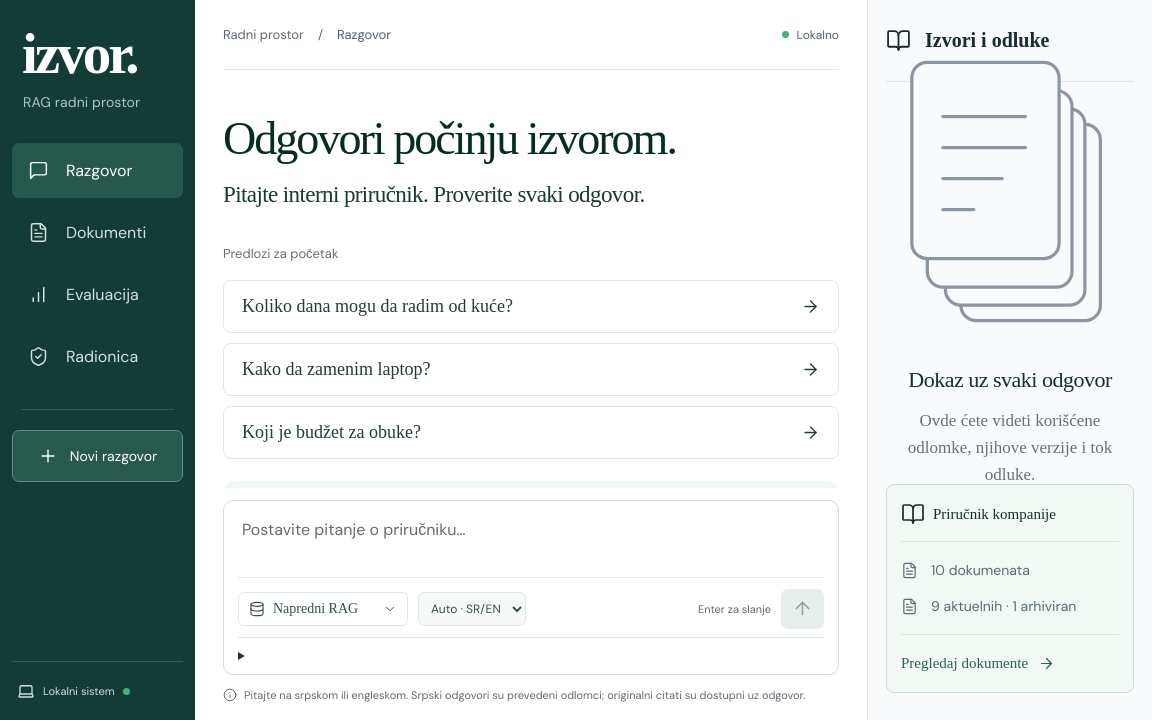
Test case: real UI contracts › names the failed check when a generated answer was replaced by the source
Click the button "Koliko dana mogu da radim od kuće?" at (377, 306), box [223, 280, 839, 333]
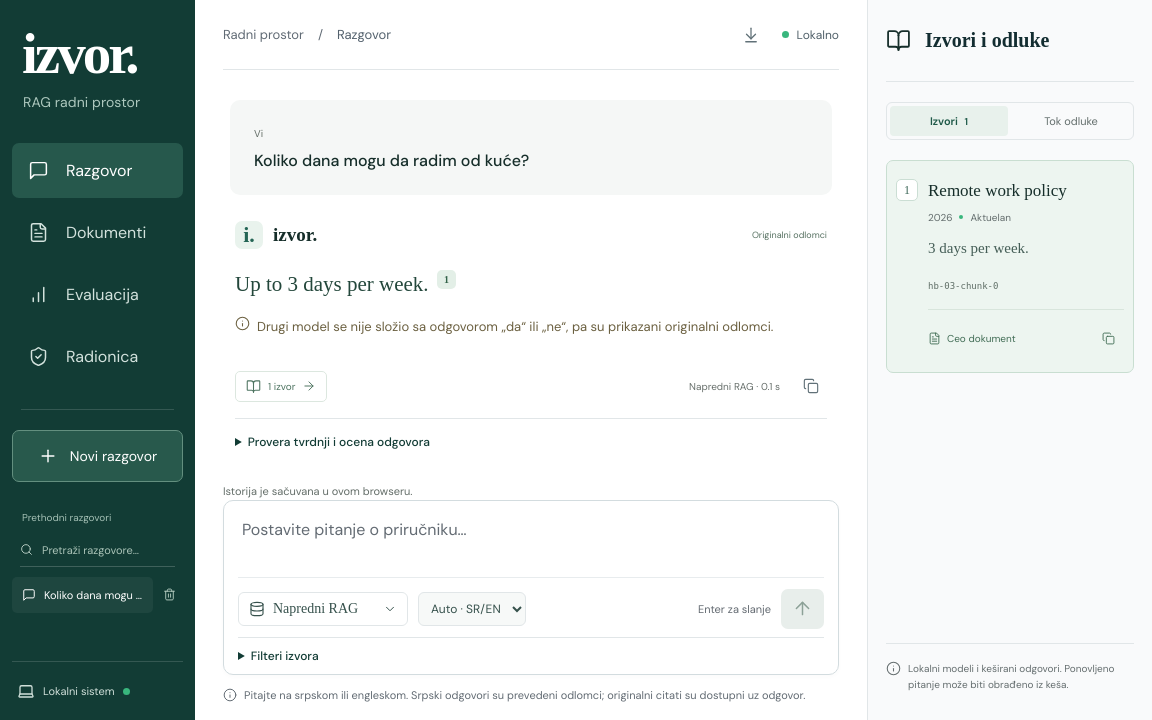
Expected: the text "nije složio sa odgovorom" is shown, [257, 318, 773, 335]
